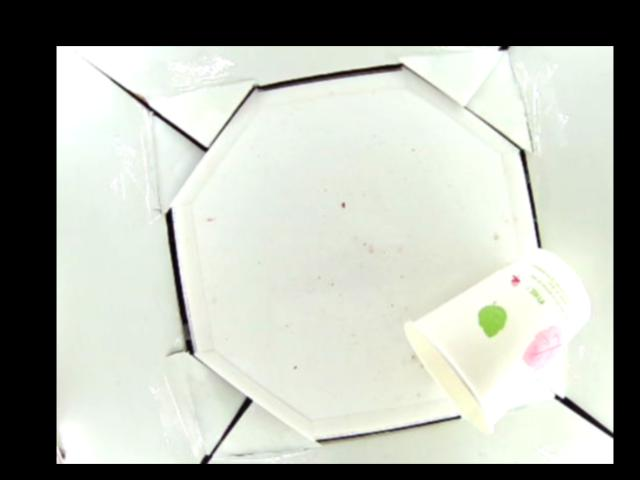Cup: (402, 246, 594, 433)
